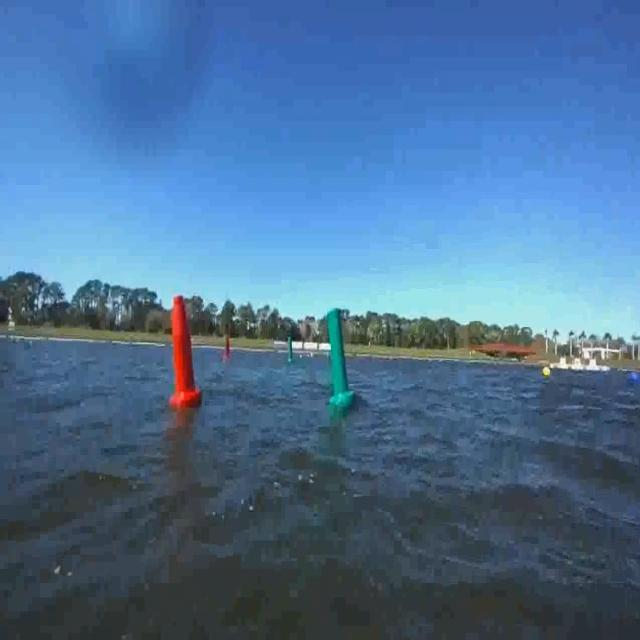blue-buoy: (629, 372, 640, 388)
green-column-buoy: (324, 306, 354, 407), (287, 337, 294, 363)
red-column-buoy: (168, 292, 202, 409), (224, 336, 232, 359)
yellow-buoy: (541, 364, 550, 378)
